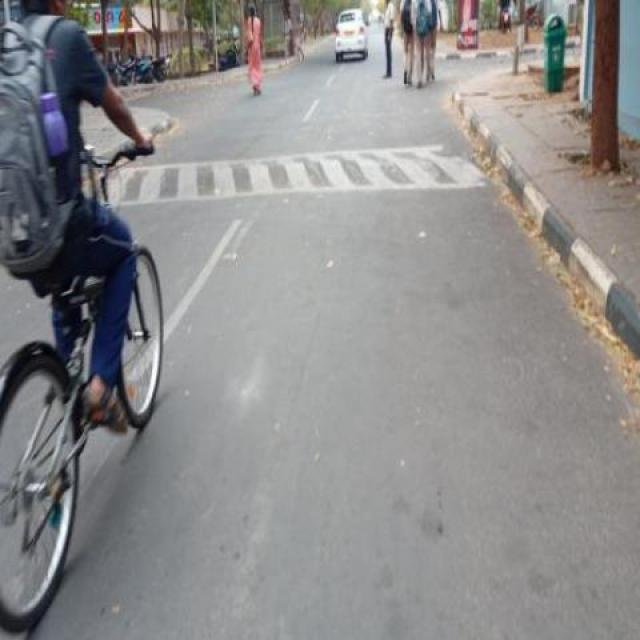Speed Bump: (98, 141, 476, 200)
